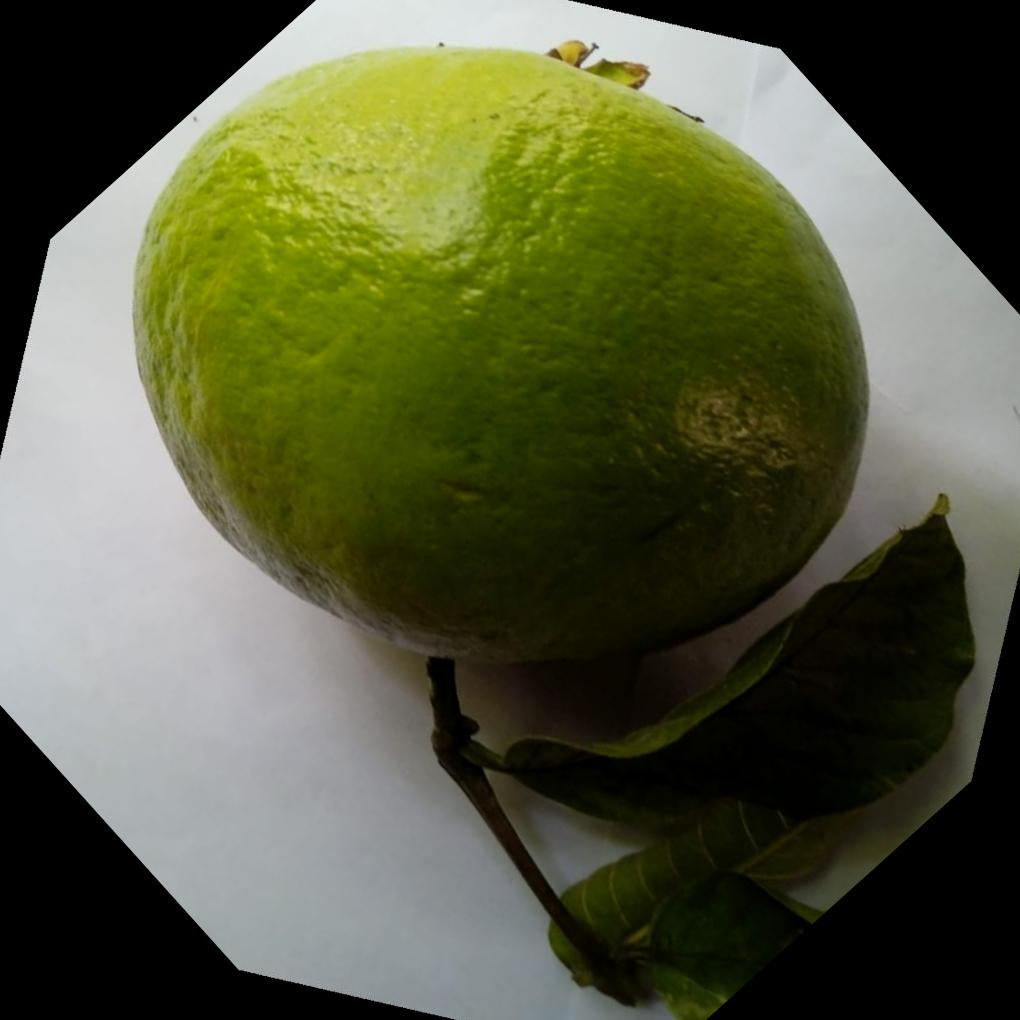FreshGuava: (127, 39, 872, 666)
